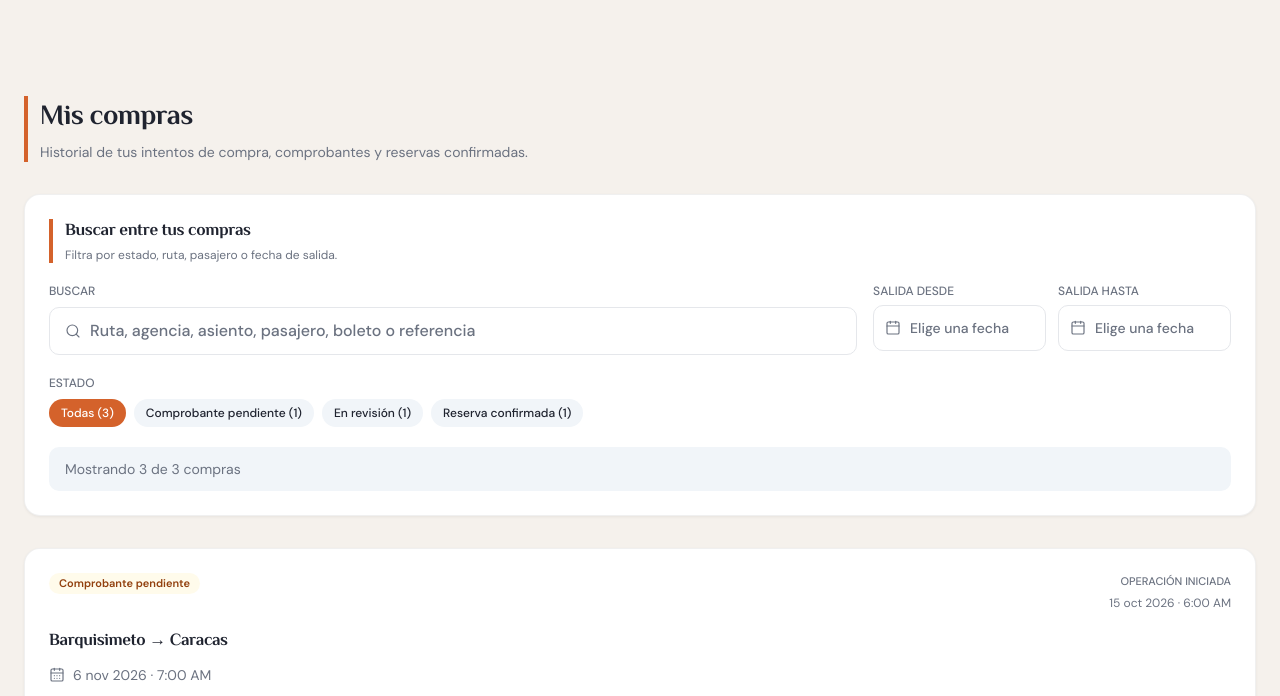
Test case: MisComprasPage — filtros de búsqueda del cliente › filtra por estado con los chips y muestra sus contadores
Check: the heading "Barquisimeto → Caracas" is shown, box [49,628,228,654]
Check: the button "Comprobante pendiente (1)" is shown, box [134,399,314,427]
Click the button "Reserva confirmada (1)".
click(507, 413)  # box [431,399,583,427]
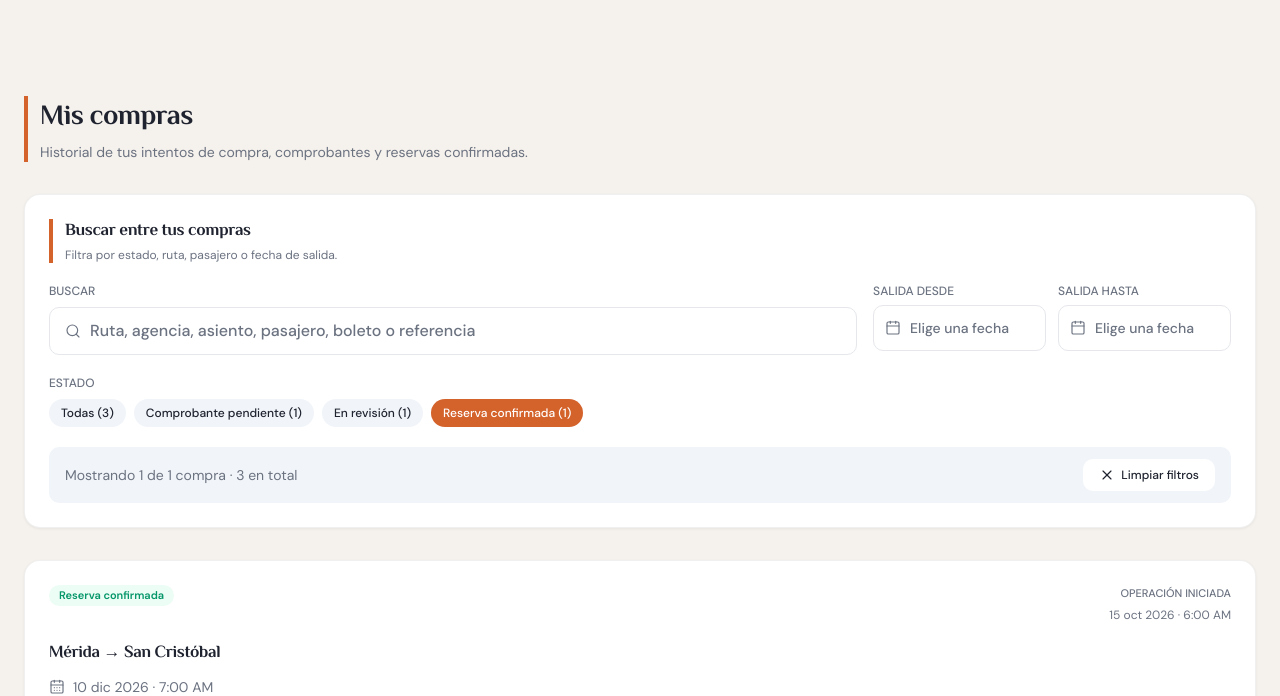
Check: the heading "Mérida → San Cristóbal" is shown, box [49,640,220,666]
Check: the heading "Barquisimeto → Caracas" is gone
Check: the text "Mostrando 1 de 1 compra · 3 en total" is shown, box [65,465,297,485]
Click the button "Todas (3)".
click(87, 413)  # box [49,399,126,427]
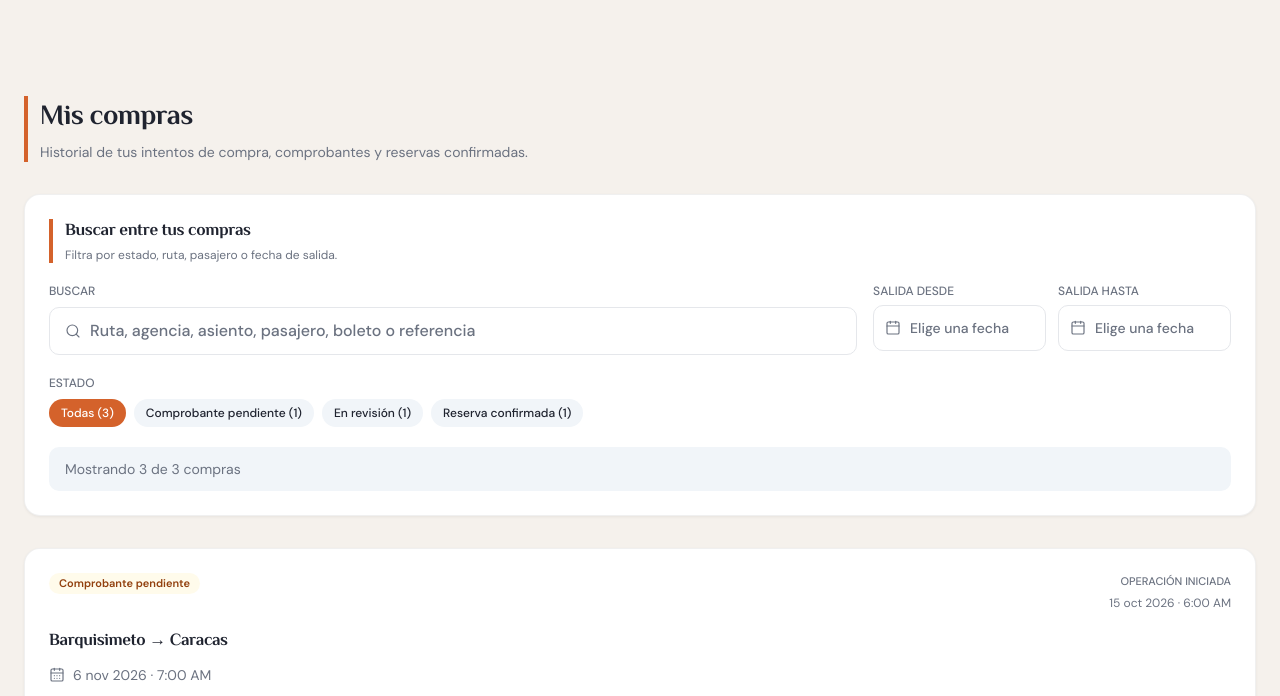
Check: the heading "Barquisimeto → Caracas" is shown, box [49,628,228,654]
